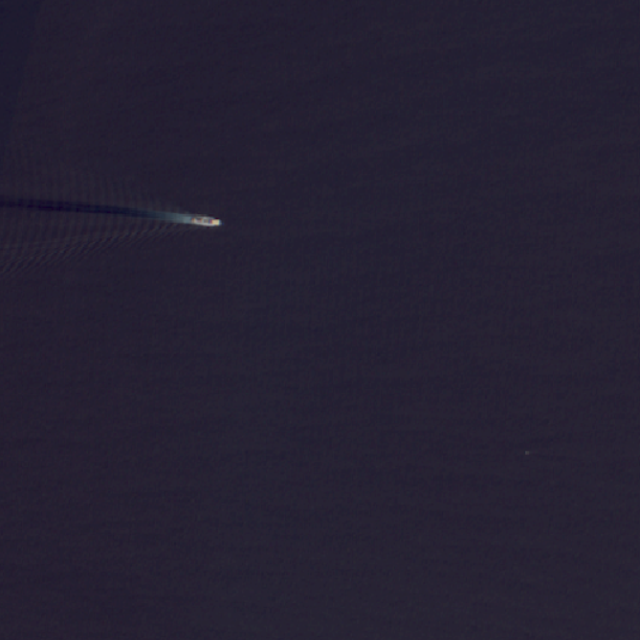wake: (52, 165, 232, 259)
